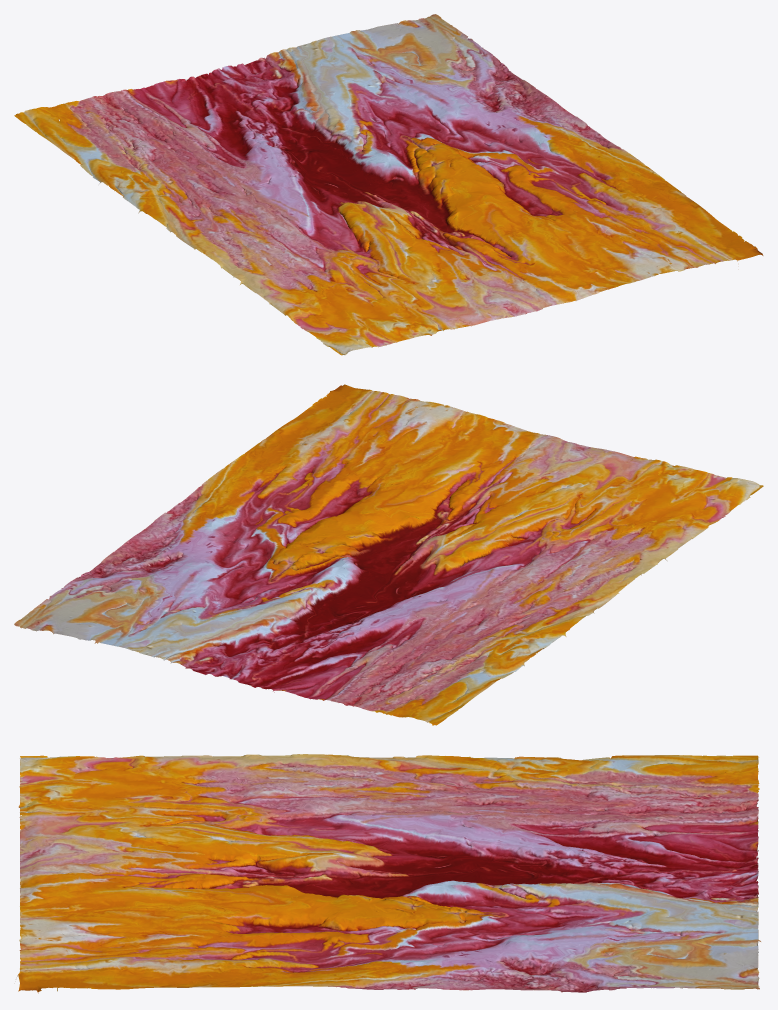
3 renders of one model, top to bottom at view 1: azimuth 30°, elevation 25°; view 2: azimuth 150°, elevation 25°; view 3: azimuth 270°, elevation 25°, orthographic. The views are drawn at different scales.
Parts seen in each view (by area): view 1: attribpromote4; view 2: attribpromote4; view 3: attribpromote4.
Boxes of the visible parts, x1=… form: attribpromote4: x1=14, y1=14, x2=763, y2=355; attribpromote4: x1=14, y1=384, x2=763, y2=725; attribpromote4: x1=17, y1=754, x2=760, y2=993.
Size of what is drawn, in the model's own units: 755 by 40.38 by 1016.
Materials: 1 (1 with a texture image).
